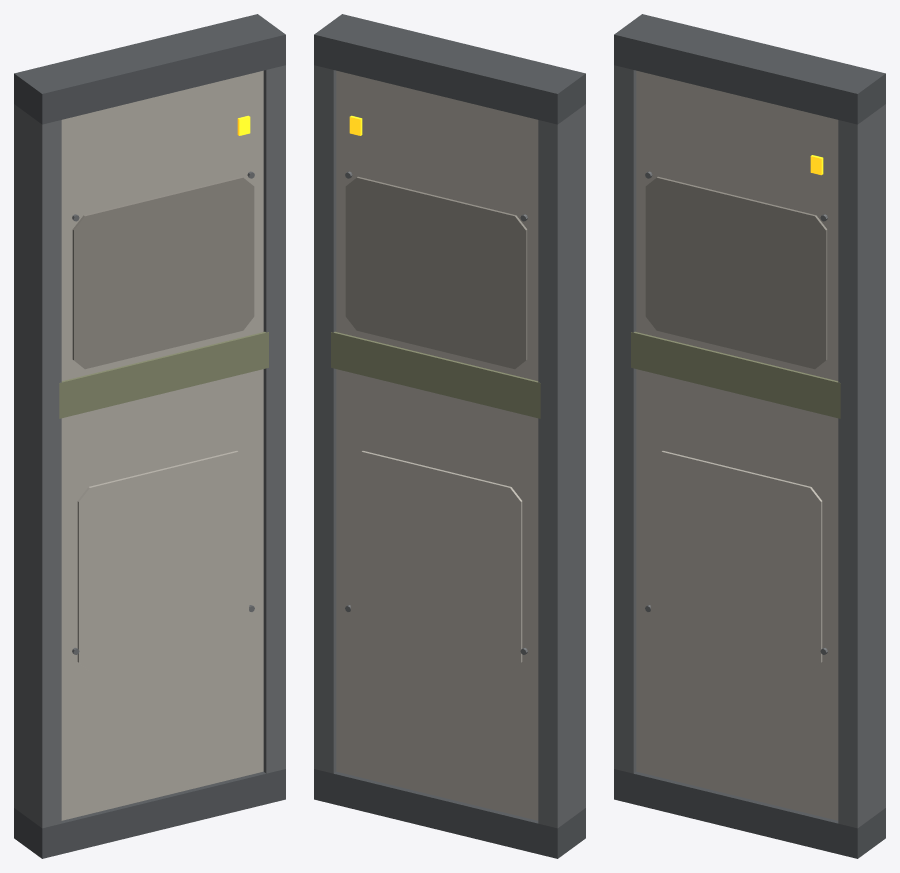
File: wall.glb
3 renders of one model, left to right at view 1: azimuth 30°, elevation 25°; view 2: azimuth 150°, elevation 25°; view 3: azimuth 330°, elevation 25°, orthographic.
Parts seen in each view (by area): view 1: wall_core_concrete, wall_left_vertical_cap, wall_back_lower_panel, wall_back_upper_panel, wall_right_vertical_cap, wall_top_dark_cap, wall_bottom_dark_cap, wall_back_olive_band; view 2: wall_core_concrete, wall_left_vertical_cap, wall_front_lower_panel, wall_front_upper_panel, wall_right_vertical_cap, wall_top_dark_cap, wall_bottom_dark_cap, wall_front_olive_band; view 3: wall_core_concrete, wall_right_vertical_cap, wall_back_lower_panel, wall_back_upper_panel, wall_left_vertical_cap, wall_top_dark_cap, wall_bottom_dark_cap, wall_back_olive_band.
Boxes of the visible parts, x1,y1,x2,y2 form: wall_core_concrete: [61, 70, 263, 820]; wall_left_vertical_cap: [14, 104, 61, 828]; wall_back_lower_panel: [77, 451, 249, 671]; wall_back_upper_panel: [72, 176, 254, 369]; wall_right_vertical_cap: [263, 65, 285, 773]; wall_top_dark_cap: [14, 14, 285, 124]; wall_bottom_dark_cap: [14, 769, 285, 858]; wall_back_olive_band: [59, 331, 268, 418]; wall_core_concrete: [336, 70, 538, 820]; wall_left_vertical_cap: [538, 104, 585, 828]; wall_front_lower_panel: [350, 451, 522, 671]; wall_front_upper_panel: [345, 176, 527, 369]; wall_right_vertical_cap: [314, 65, 336, 773]; wall_top_dark_cap: [314, 14, 585, 124]; wall_bottom_dark_cap: [314, 769, 585, 858]; wall_front_olive_band: [331, 331, 540, 418]; wall_core_concrete: [636, 70, 838, 820]; wall_right_vertical_cap: [838, 104, 885, 828]; wall_back_lower_panel: [650, 451, 822, 671]; wall_back_upper_panel: [645, 176, 827, 369]; wall_left_vertical_cap: [614, 65, 636, 773]; wall_top_dark_cap: [614, 14, 885, 124]; wall_bottom_dark_cap: [614, 769, 885, 858]; wall_back_olive_band: [631, 331, 840, 418].
Size of the model in its own units: 1 by 3 by 0.204.
